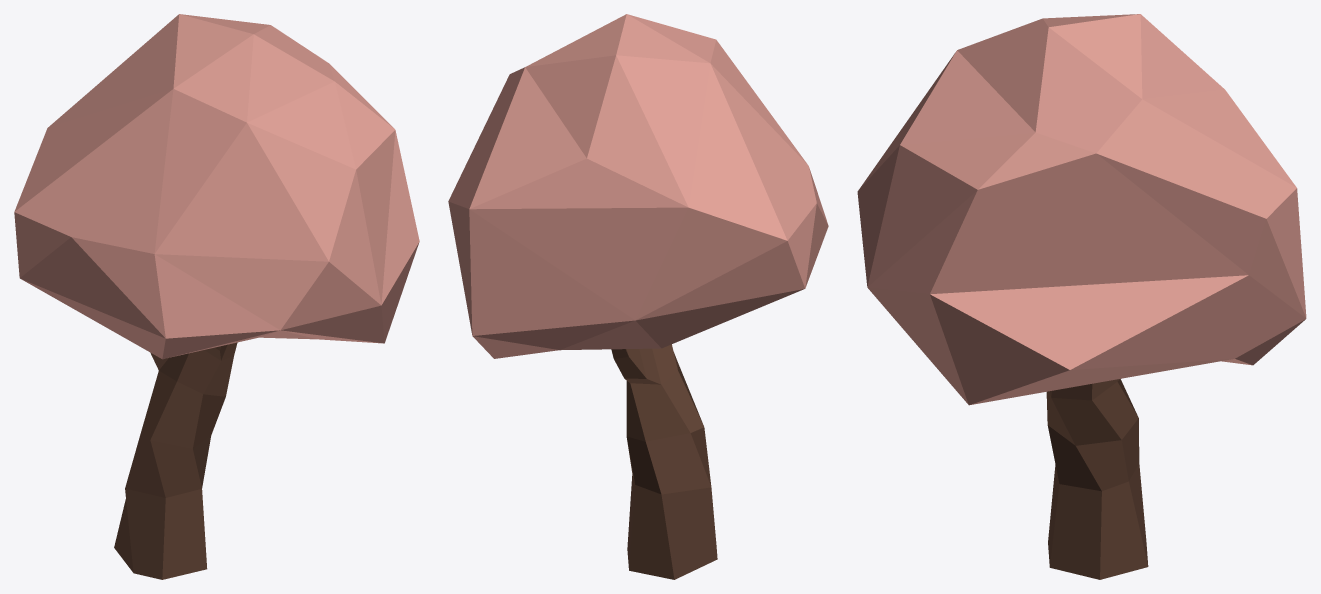
Rendered from Tree3.fbx.
The picture shows the model from 3 angles, left to right: view 1: azimuth 30°, elevation 25°; view 2: azimuth 150°, elevation 25°; view 3: azimuth 270°, elevation 25°; orthographic projection. The views are drawn at different scales.
Parts seen in each view (by area): view 1: Icosphere.009, Cylinder.006; view 2: Icosphere.009, Cylinder.006; view 3: Icosphere.009, Cylinder.006.
Boxes of the visible parts, left/top/right/bottom form: Icosphere.009: left=14, top=14, right=419, bottom=359; Cylinder.006: left=114, top=342, right=237, bottom=579; Icosphere.009: left=448, top=14, right=828, bottom=358; Cylinder.006: left=611, top=344, right=717, bottom=579; Icosphere.009: left=857, top=14, right=1306, bottom=405; Cylinder.006: left=1046, top=379, right=1148, bottom=579.
Bounding box in the file's own units: 99.21 × 139 × 99.97.
